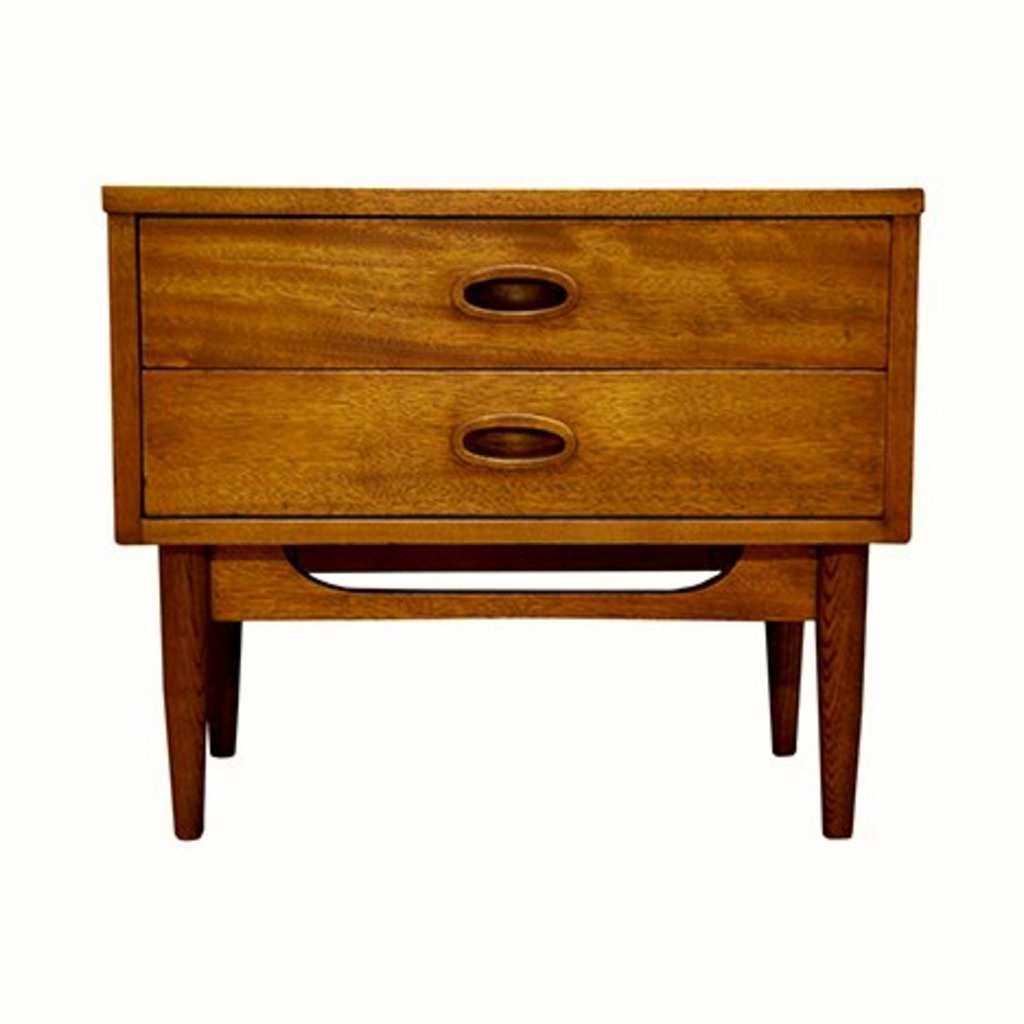cabinet door: (141, 366, 889, 519), (135, 220, 888, 367)
handle: (454, 255, 579, 333), (440, 400, 579, 469)
